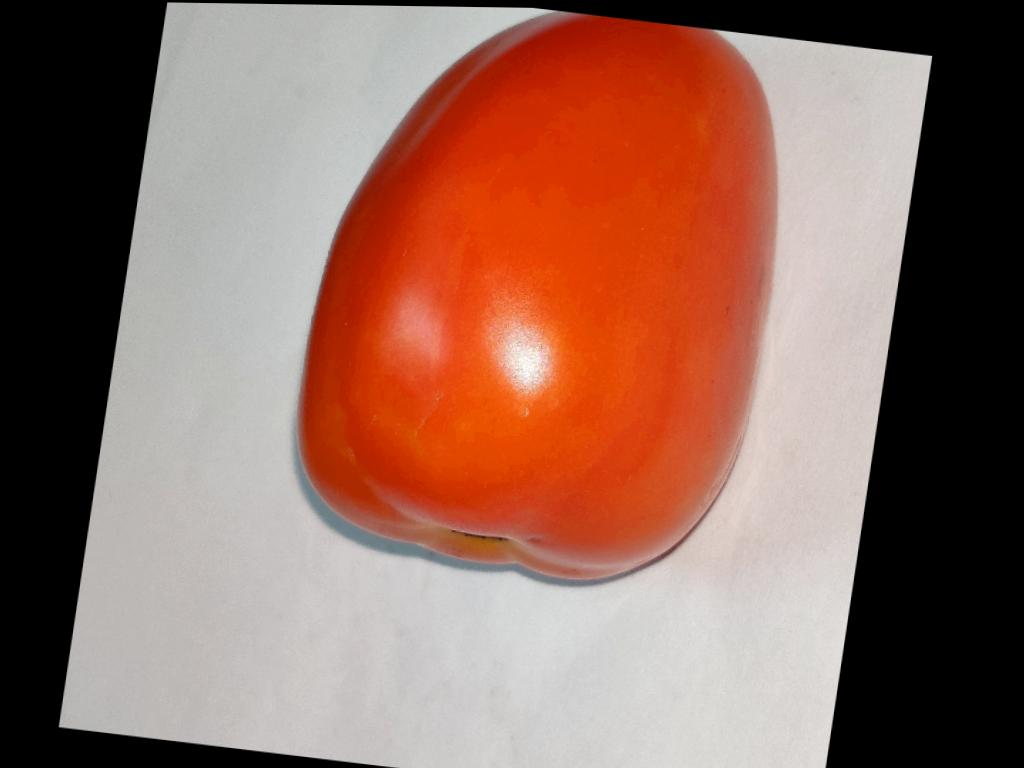tomato: (298, 12, 774, 578)
